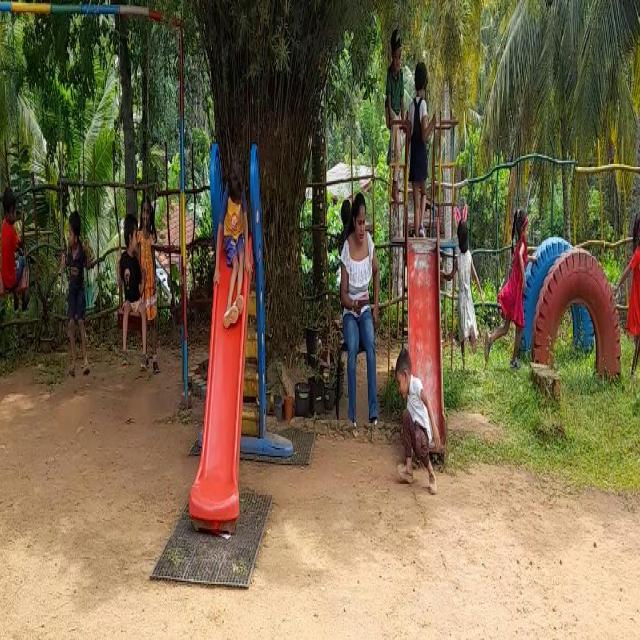adult: (333, 174, 381, 418)
child: (223, 136, 257, 324), (493, 207, 531, 375), (0, 159, 33, 323), (451, 200, 483, 368), (112, 205, 147, 358), (67, 198, 96, 381), (409, 47, 436, 229), (402, 328, 433, 479), (627, 203, 640, 364)
